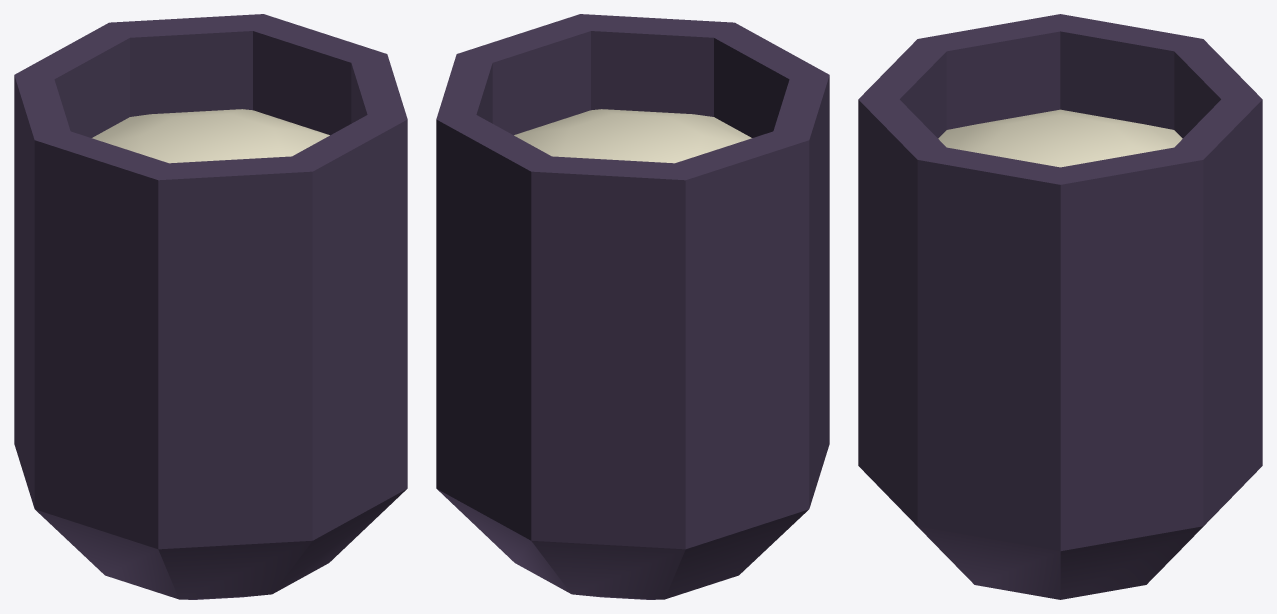
Rendered from FBX_PROJO.fbx.
The picture shows the model from 3 angles, left to right: view 1: azimuth 30°, elevation 25°; view 2: azimuth 150°, elevation 25°; view 3: azimuth 270°, elevation 25°; orthographic projection.
Parts seen in each view (by area): view 1: pCylinder24; view 2: pCylinder24; view 3: pCylinder24.
Part boxes in pixels (left/top/right/bottom): pCylinder24: left=14, top=14, right=407, bottom=599; pCylinder24: left=436, top=14, right=829, bottom=599; pCylinder24: left=858, top=14, right=1262, bottom=599.
Size of the model in its own units: 47.76 by 61.72 by 47.76.
